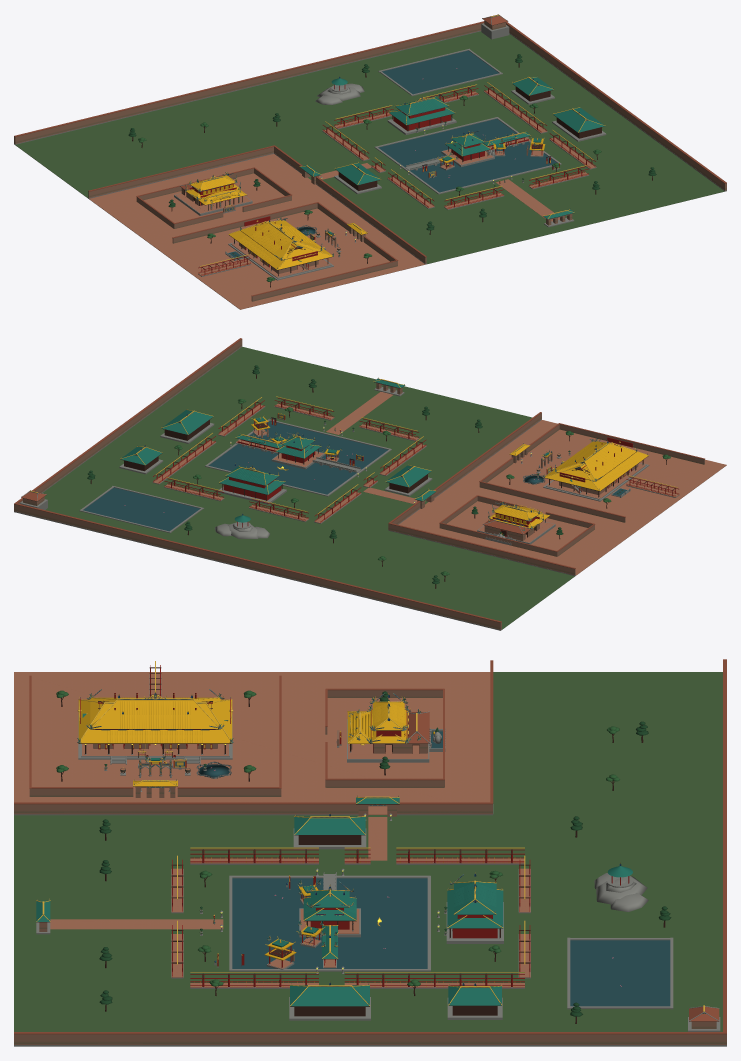
The model's file is T15_co_ha_duyet_thi_duong.glb.
The picture shows the model from 3 angles, top to bottom: view 1: azimuth 30°, elevation 25°; view 2: azimuth 150°, elevation 25°; view 3: azimuth 270°, elevation 25°; orthographic projection. The views are drawn at different scales.
Parts seen in each view (by area): view 1: T15_Static_Architecture_v02, V08_WalkableShell_Walls_Floors_Vault_NonBo; view 2: T15_Static_Architecture_v02, V08_WalkableShell_Walls_Floors_Vault_NonBo; view 3: T15_Static_Architecture_v02, V08_WalkableShell_Walls_Floors_Vault_NonBo, V13_CoHa_ThuongThangLau_ThuongUyenMon_MinhHo.
Part boxes in pixels (x1=…): T15_Static_Architecture_v02: x1=14, y1=14, x2=726, y2=309; V08_WalkableShell_Walls_Floors_Vault_NonBo: x1=181, y1=188, x2=324, y2=276; T15_Static_Architecture_v02: x1=14, y1=338, x2=726, y2=630; V08_WalkableShell_Walls_Floors_Vault_NonBo: x1=484, y1=437, x2=644, y2=545; T15_Static_Architecture_v02: x1=14, y1=659, x2=726, y2=1046; V08_WalkableShell_Walls_Floors_Vault_NonBo: x1=77, y1=698, x2=445, y2=778; V13_CoHa_ThuongThangLau_ThuongUyenMon_MinhHo: x1=264, y1=936, x2=296, y2=969.
Bounding box in the file's own units: 241 × 14.36 × 194.
Materials: 18 (3 with a texture image).
